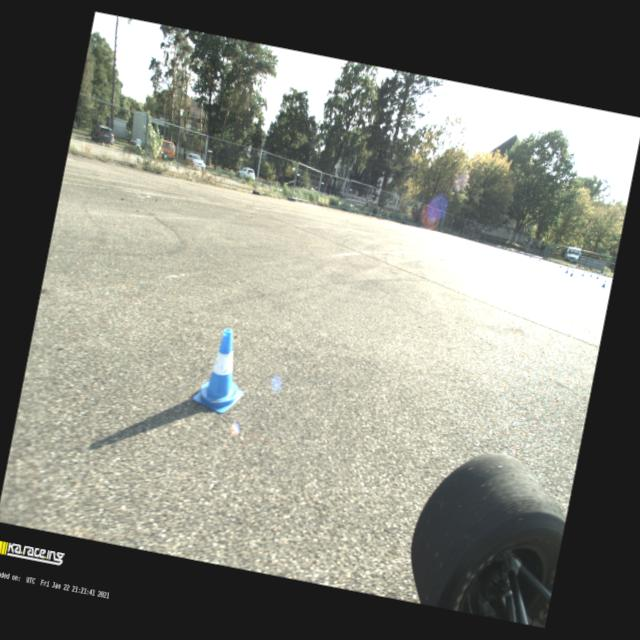blue_cone: (192, 325, 256, 416)
